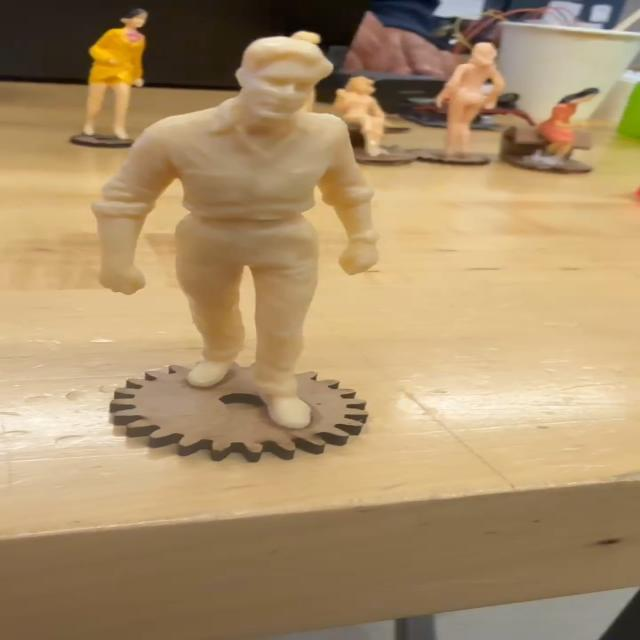Unauthorized: (73, 18, 419, 445)
